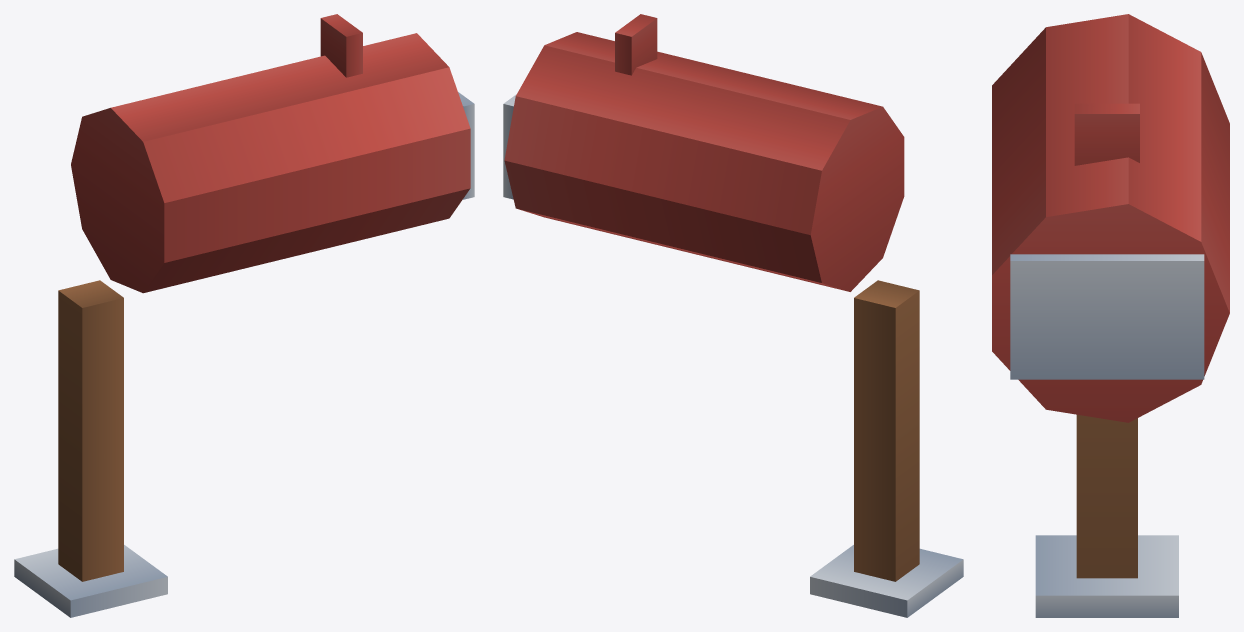
The model's file is mailbox.fbx.
3 views of the same model, side by side, from view 1: azimuth 30°, elevation 25°; view 2: azimuth 150°, elevation 25°; view 3: azimuth 270°, elevation 25° (orthographic). The views are drawn at different scales.
Parts seen in each view (by area): view 1: mailbox; view 2: mailbox; view 3: mailbox.
Part boxes in pixels (x1,y1,x2,y2): mailbox: (14,14,474,617); mailbox: (503,14,963,617); mailbox: (992,14,1229,617).
Bounding box in the file's own units: 372 × 450 × 153.
